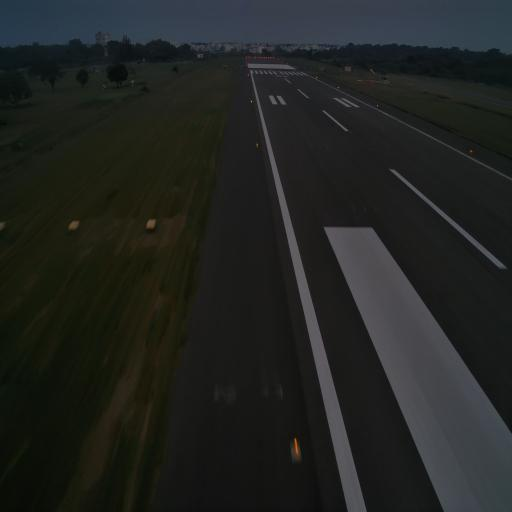off: (352, 203, 357, 215), (373, 204, 379, 213), (362, 204, 366, 213), (312, 144, 315, 150), (350, 130, 353, 134), (370, 146, 372, 151), (326, 145, 328, 150), (319, 145, 321, 149)
on: (291, 434, 302, 464), (255, 140, 259, 150), (469, 148, 473, 155), (376, 104, 379, 108)
